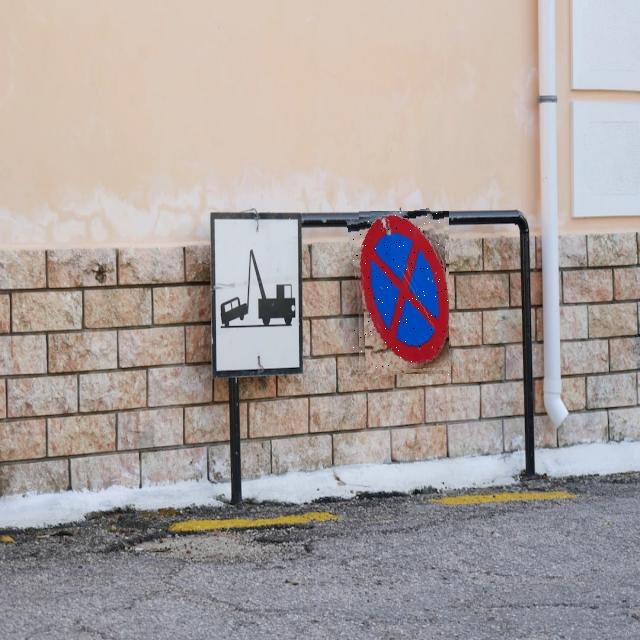no stopping: (353, 211, 449, 377)
